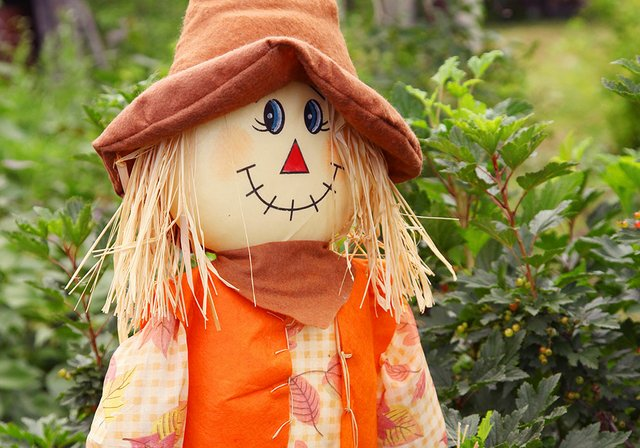person-like: (80, 2, 456, 447)
